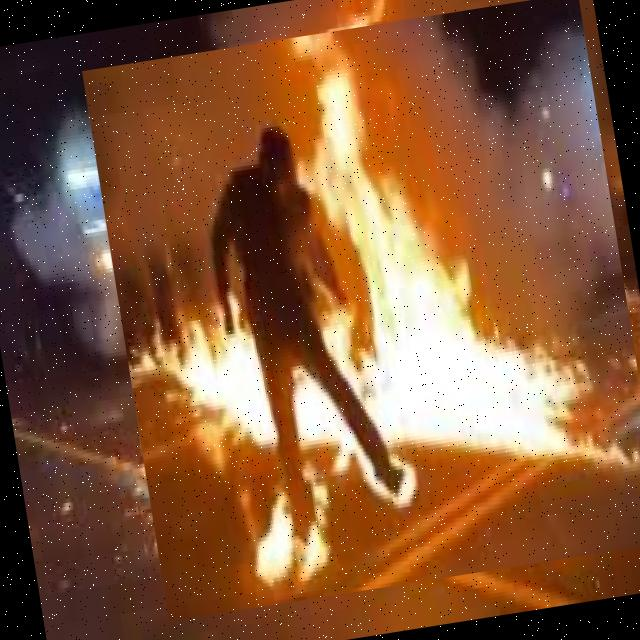fire: (82, 0, 640, 621)
